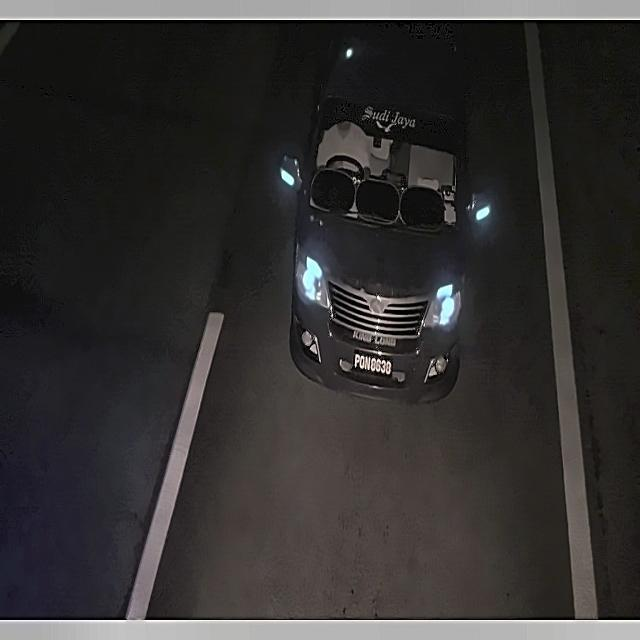car: (353, 344, 396, 381)
